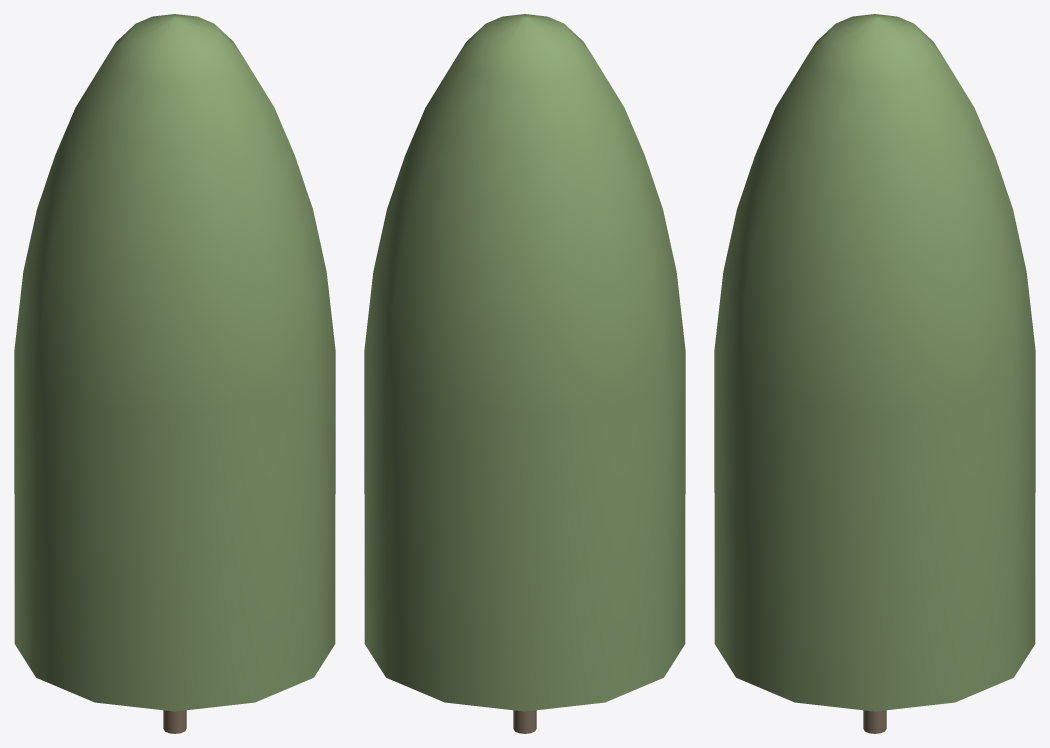
File: Douglas_Fir_Analytical_0.obj
3 renders of one model, left to right at view 1: azimuth 30°, elevation 25°; view 2: azimuth 150°, elevation 25°; view 3: azimuth 270°, elevation 25°, orthographic.
Parts seen in each view (by area): view 1: AnalyticalCrown, AnalyticalTrunk; view 2: AnalyticalCrown, AnalyticalTrunk; view 3: AnalyticalCrown, AnalyticalTrunk.
Boxes of the visible parts, x1,y1,x2,y2 form: AnalyticalCrown: (14, 14, 335, 711); AnalyticalTrunk: (163, 710, 186, 733); AnalyticalCrown: (364, 14, 685, 711); AnalyticalTrunk: (513, 710, 536, 733); AnalyticalCrown: (714, 14, 1035, 711); AnalyticalTrunk: (863, 710, 886, 733).
Bounding box in the file's own units: 24.56 × 60 × 24.56.
